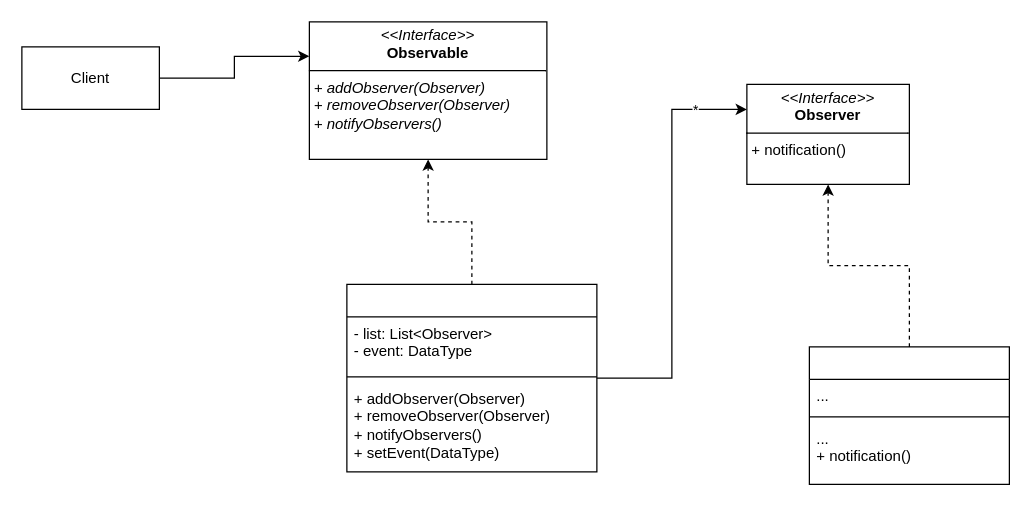
Some shapes in this 1031 by 510 pixel diagram are drawn without their labels. The box of each missing label's shape, as (x1, y1, x2, y2) in pixels:
Context: (346, 283, 597, 472)
Follower: (808, 346, 1009, 484)
